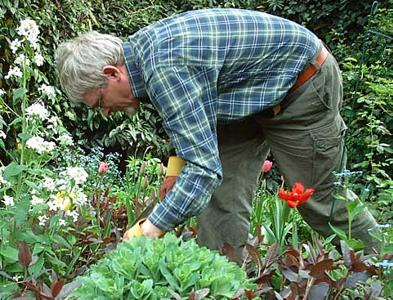person: (53, 7, 383, 266)
